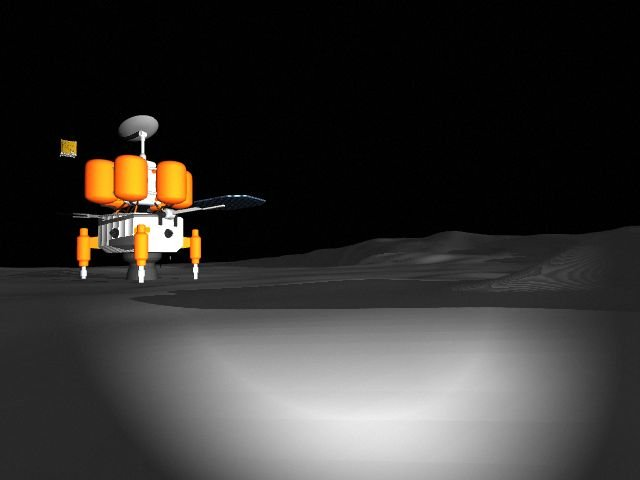cubesat: (56, 136, 80, 160)
